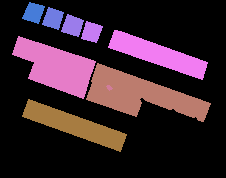parkingspot: (91, 63, 210, 121), (22, 99, 126, 151), (108, 30, 207, 79), (12, 36, 95, 81), (28, 62, 88, 98), (86, 82, 141, 116), (61, 14, 83, 36), (22, 2, 44, 23), (42, 7, 63, 29), (81, 21, 102, 42)
